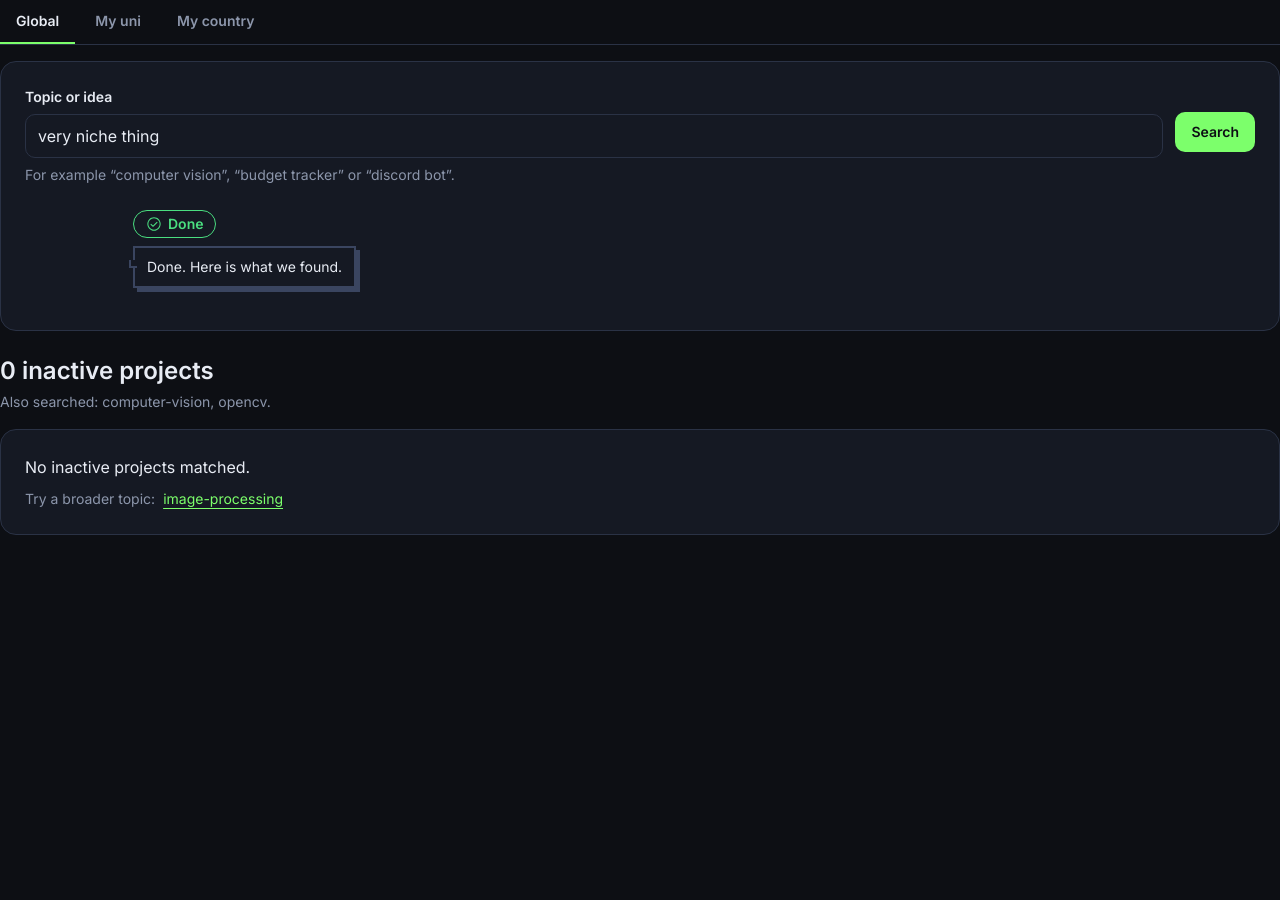
GraveyardTool › suggests broader topics when nothing matched, and searches them on a click
The image size is (1280, 900).
Expected: the text "No inactive projects matched." is shown, [25,457,250,477]
What coordinates should you click on to do the following:
click the button "image-processing"
I would click on:
 (223, 499)
Its box is [163,488,283,510].
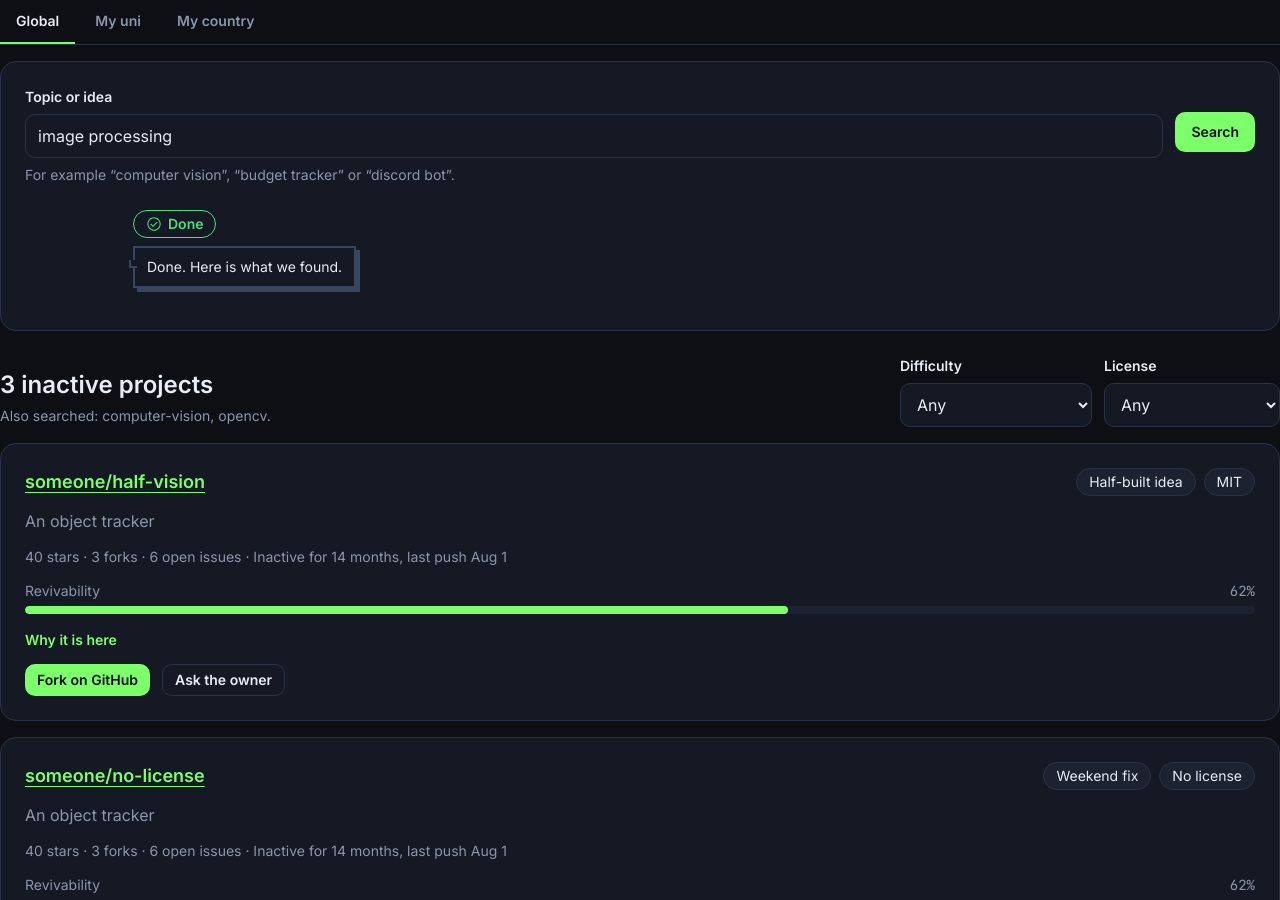
Now the number of elements with test id "graveyard-item" is 3
